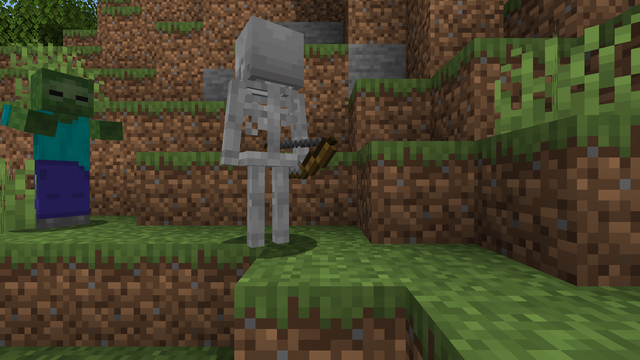squelettes: (226, 19, 301, 251)
zombies: (14, 73, 102, 229)
